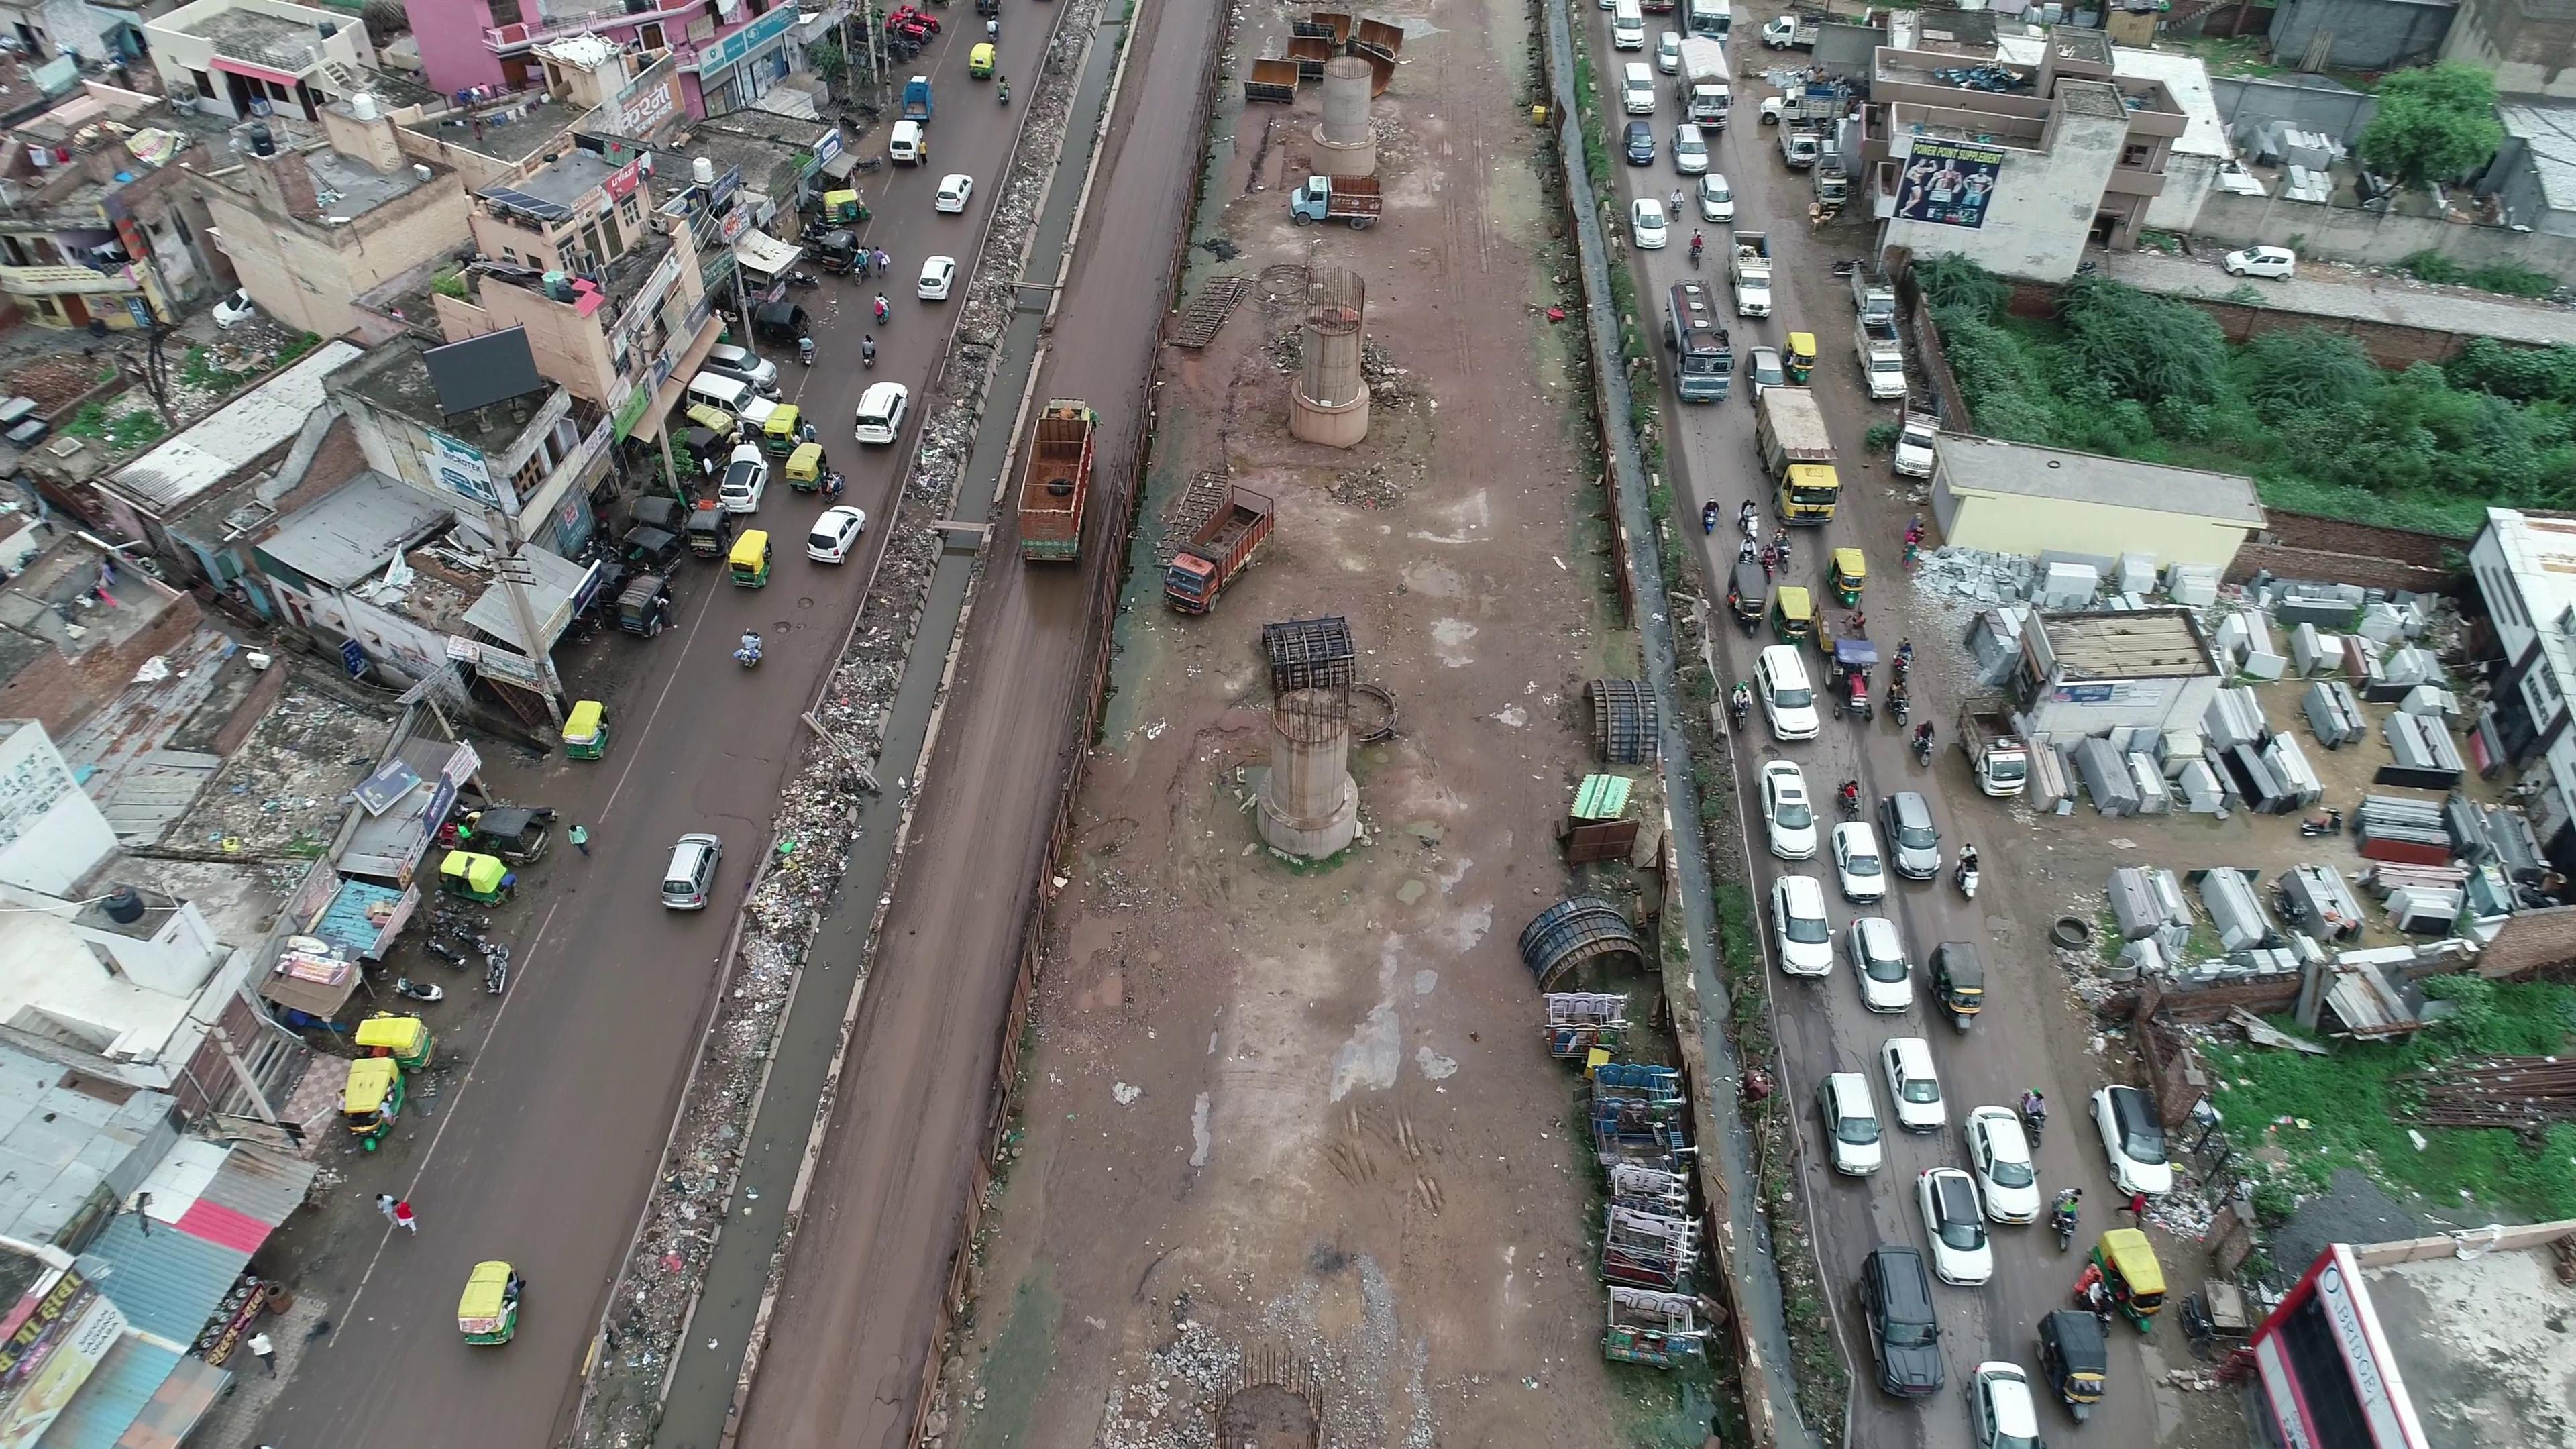Potholes: (754, 575, 835, 653)
